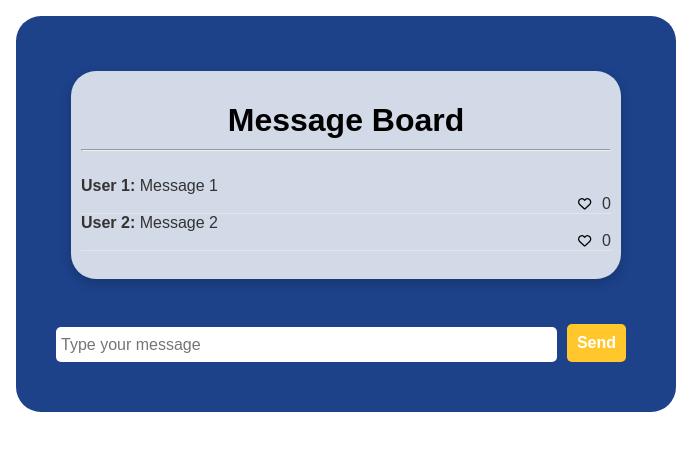
adds new message to group message list
Simulate typing a new message
Step 1. Type "New message" into the field with placeholder "Type your message" → point(306, 345), box [56,327,557,362]
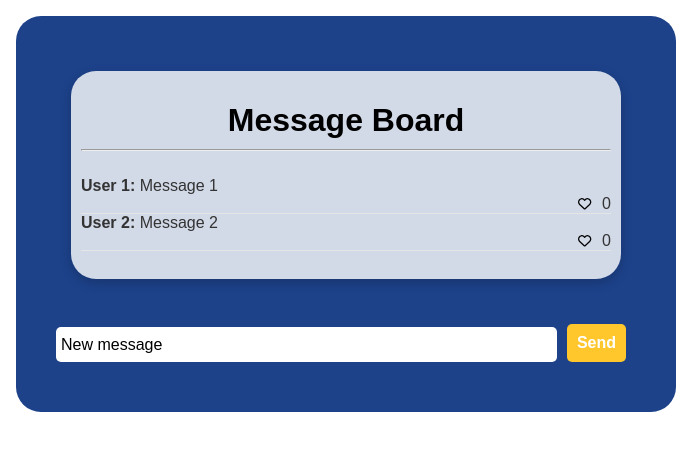
Simulate submitting the form
Step 2. Click the button "Send" → point(596, 343), box [567,324,626,362]
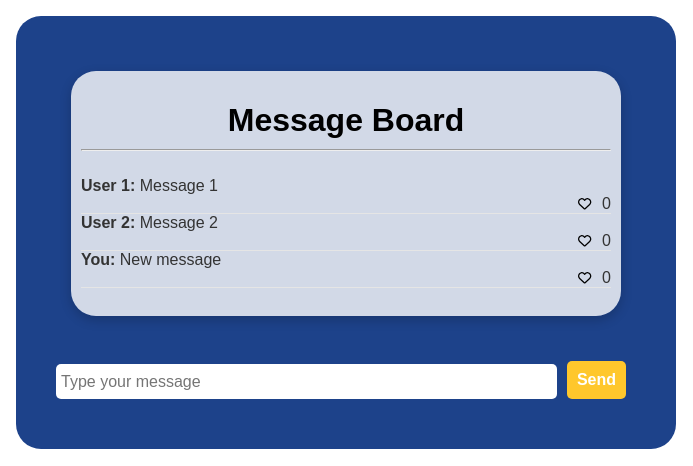
Result: the text "New message" is shown at [120,251,221,268]
